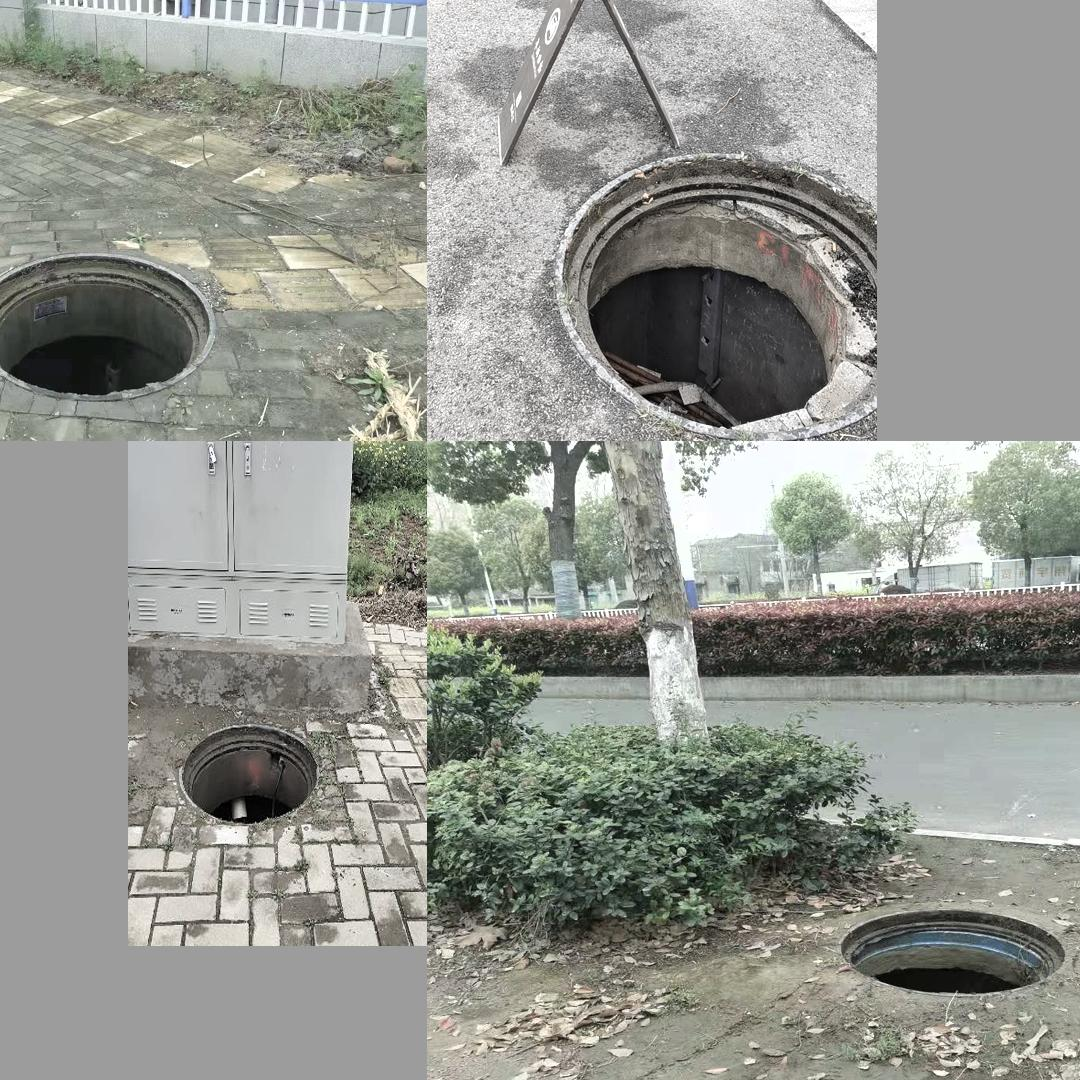lose: (549, 148, 876, 440), (0, 251, 216, 401), (821, 893, 1080, 1008), (178, 722, 319, 825)
